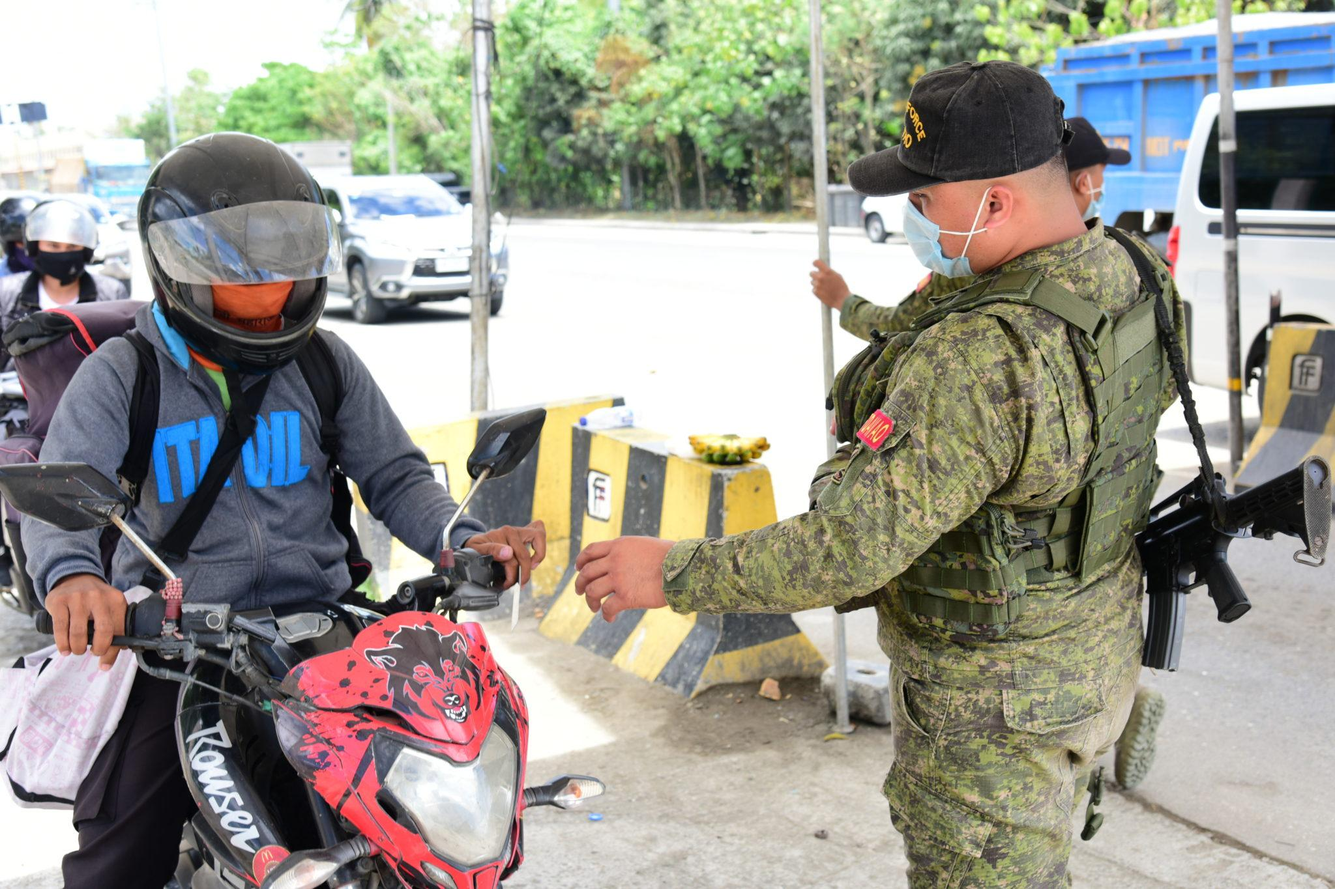helmet: (135, 131, 341, 377), (21, 198, 100, 279), (0, 197, 53, 268)
nohelmet: (849, 60, 1075, 281)
